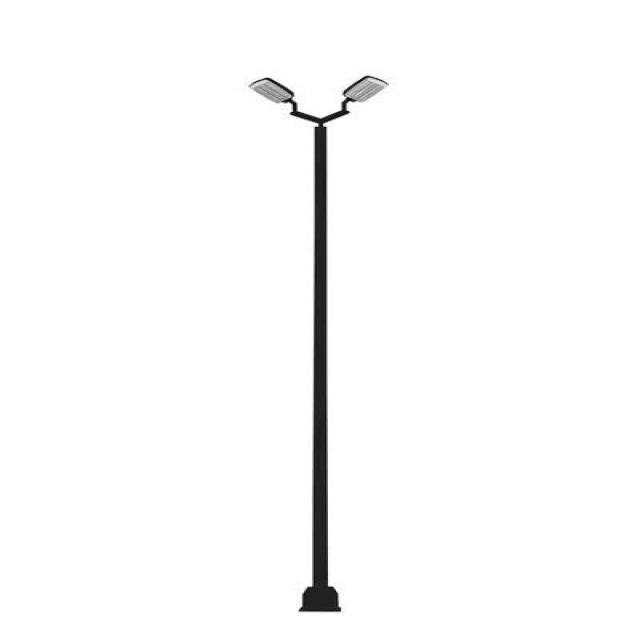Pole: (250, 76, 388, 613)
